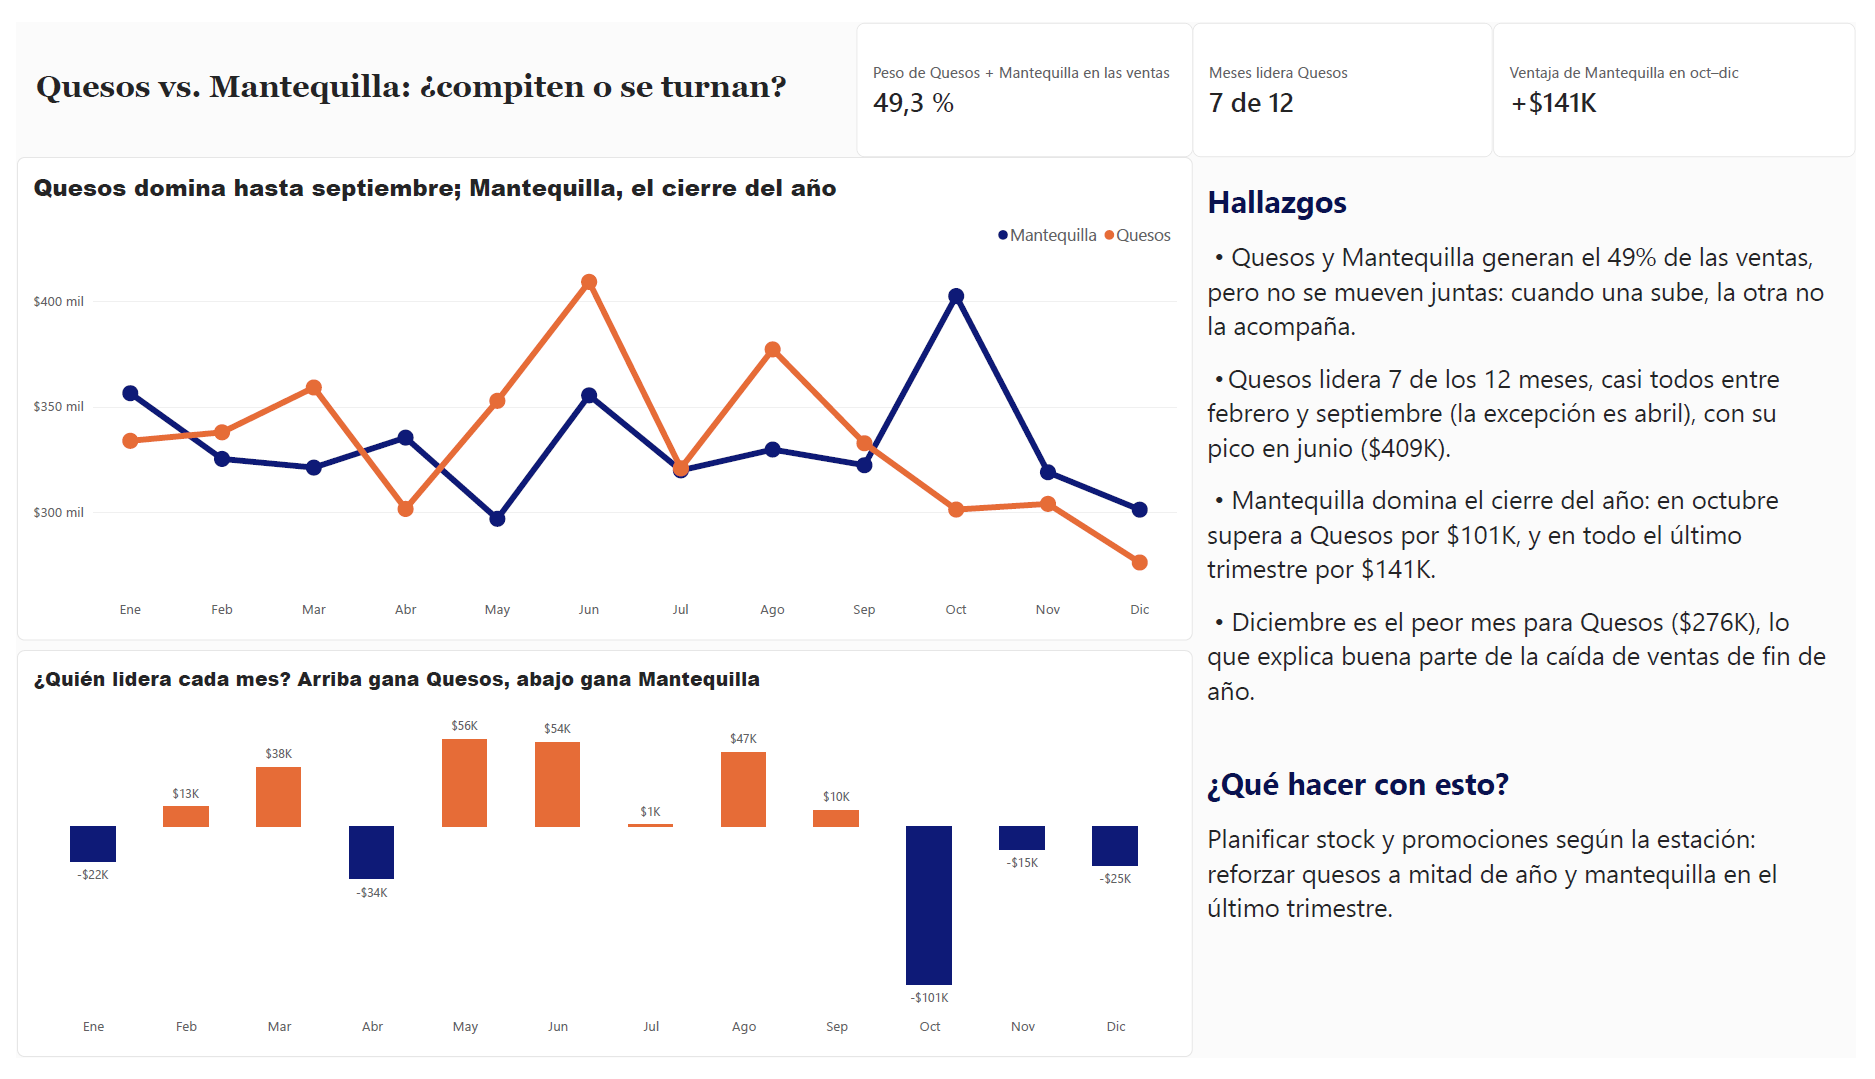

This screenshot's page, from the dashboard's own definition file:
{"tool":"powerbi","page":{"name":"Página 2","canvas":[1920,1080],"ordinal":1},"visuals":[{"type":"cardVisual","fields":{"Data":["dataset_ventas_lacteos_2024.% Quesos + Mantequilla"]},"box":[876.7,0,351.7,140],"z":0},{"type":"cardVisual","fields":{"Data":["dataset_ventas_lacteos_2024.Meses lidera Quesos"]},"box":[1228.3,0,313.3,140],"z":1},{"type":"cardVisual","fields":{"Data":["dataset_ventas_lacteos_2024.Ventaja Mantequilla T4"]},"box":[1541.7,0,378.3,140],"z":2},{"type":"lineChart","title":"Quesos domina hasta septiembre; Mantequilla, el cierre del año","fields":{"Category":["dataset_ventas_lacteos_2024.Mes"],"Y":["dataset_ventas_lacteos_2024.Ventas Mantequilla","dataset_ventas_lacteos_2024.Ventas Quesos"]},"box":[0,140,1228.3,505],"z":3},{"type":"clusteredColumnChart","title":"¿Quién lidera cada mes? Arriba gana Quesos, abajo gana Mantequilla","fields":{"Category":["dataset_ventas_lacteos_2024.Mes"],"Y":["dataset_ventas_lacteos_2024.Diferencia Q - M"]},"box":[0,655,1228,425],"z":6},{"type":"textbox","box":[1243.3,163.3,650,916.7],"z":7},{"type":"textbox","box":[20,48.3,856.7,80],"z":8}]}

Visuals, with their boxes in screenshot pixels (x1, y1, x2, y2), scaled from the page's 1920x1080 canvas onto the 1875x1079 screenshot:
cardVisual - dataset_ventas_lacteos_2024.% Quesos + Mantequilla: crop(856, 0, 1200, 140)
cardVisual - dataset_ventas_lacteos_2024.Meses lidera Quesos: crop(1200, 0, 1505, 140)
cardVisual - dataset_ventas_lacteos_2024.Ventaja Mantequilla T4: crop(1506, 0, 1874, 140)
"Quesos domina hasta septiembre; Mantequilla, el cierre del año" lineChart: crop(0, 140, 1200, 644)
"¿Quién lidera cada mes? Arriba gana Quesos, abajo gana Mantequilla" clusteredColumnChart: crop(0, 654, 1199, 1078)
textbox: crop(1214, 163, 1849, 1078)
textbox: crop(20, 48, 856, 128)
